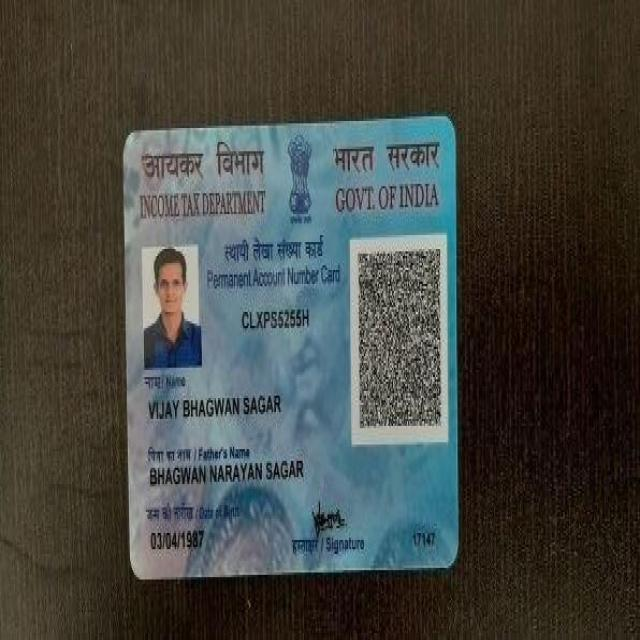pan_card: (127, 125, 455, 572)
